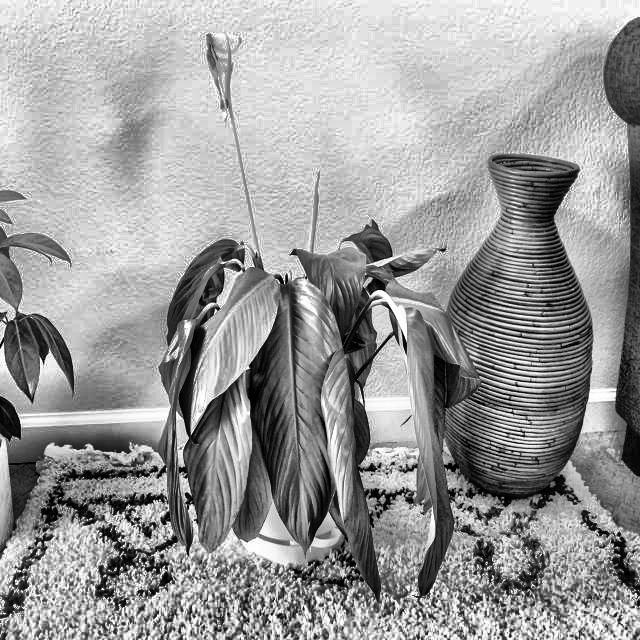plants: (157, 216, 446, 580)
